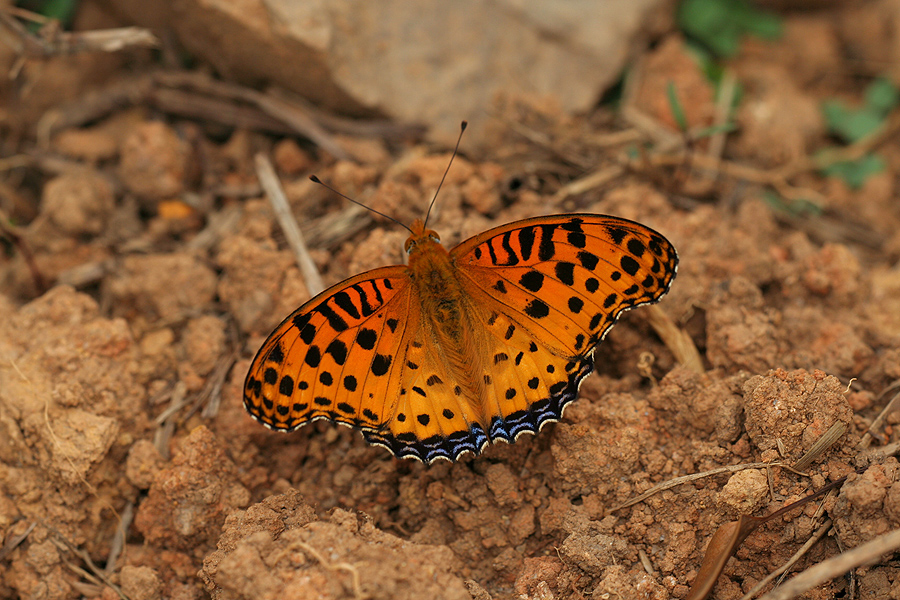Argyreus hyperbius: (243, 113, 681, 465)
butterfly: (245, 115, 683, 467)
